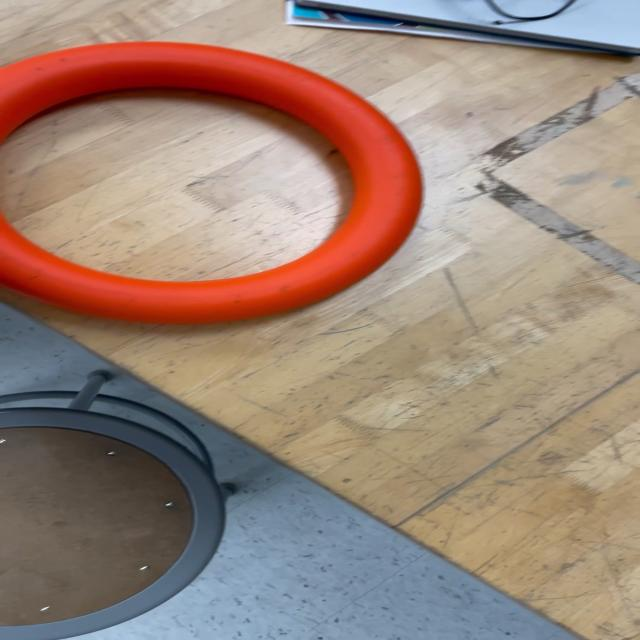note: (0, 40, 427, 325)
